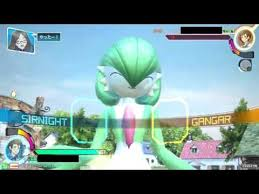gardevoir: (35, 39, 194, 173)
